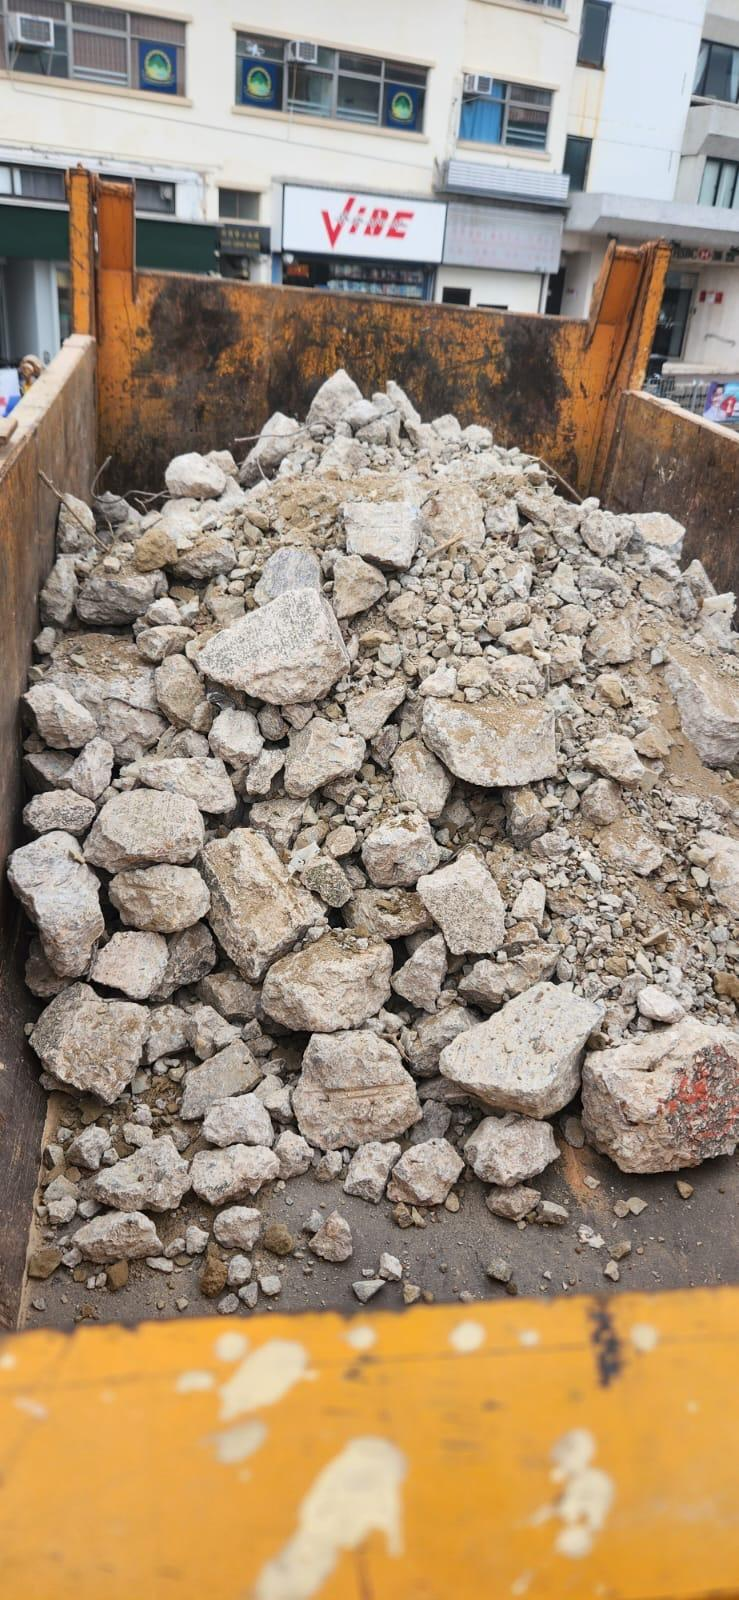dry: (40, 400, 733, 1267)
